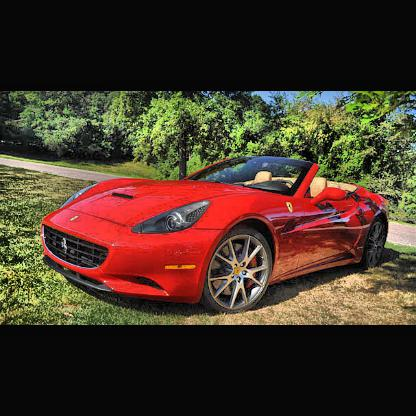Ferrari California Convertible 2012: (43, 156, 392, 314)
